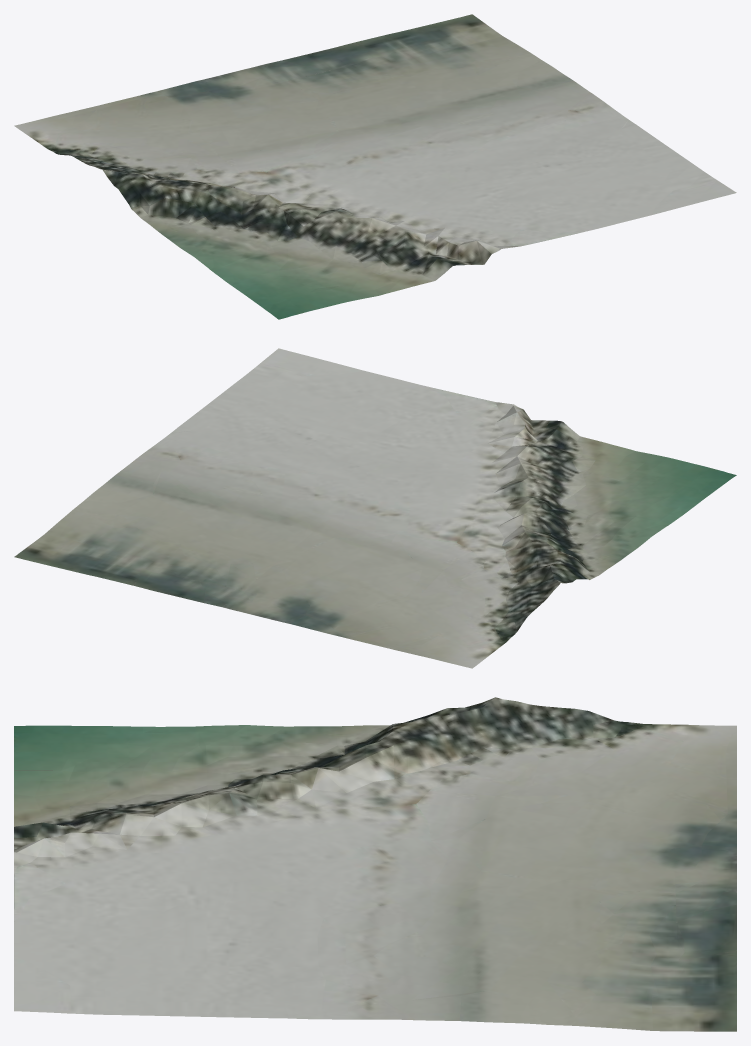
The picture shows the model from 3 angles, top to bottom: view 1: azimuth 30°, elevation 25°; view 2: azimuth 150°, elevation 25°; view 3: azimuth 270°, elevation 25°; orthographic projection. The views are drawn at different scales.
Bounding box in the file's own units: 104 × 4.82 × 104.
2 materials, 2 textured.
